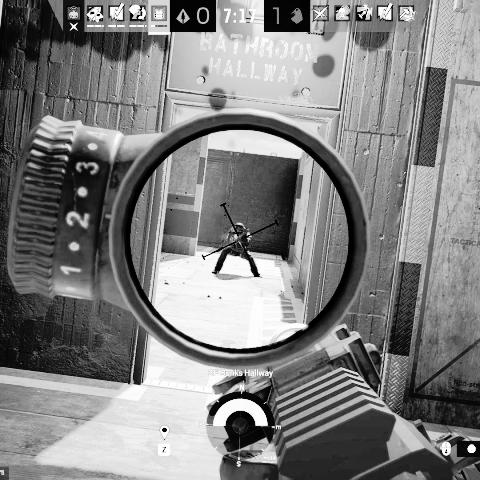Character: (211, 221, 262, 278)
Head: (232, 222, 245, 234)
